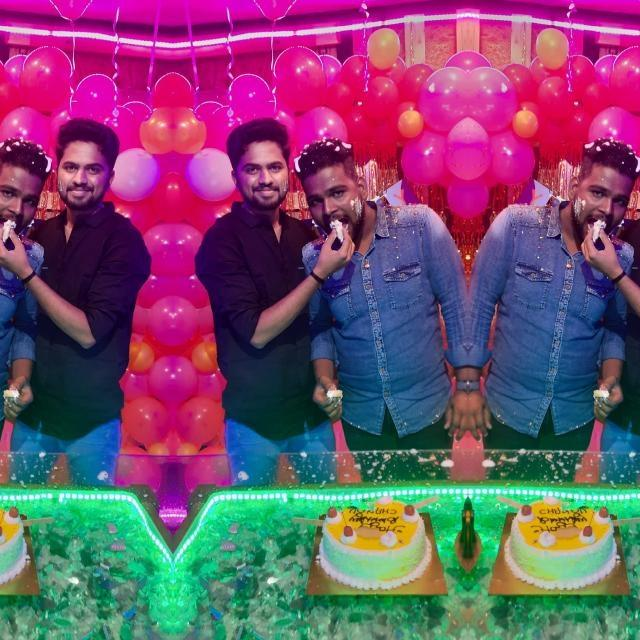person: (297, 142, 449, 398), (485, 142, 637, 398), (203, 126, 319, 394), (25, 126, 141, 394), (0, 142, 47, 397), (615, 126, 640, 393)
